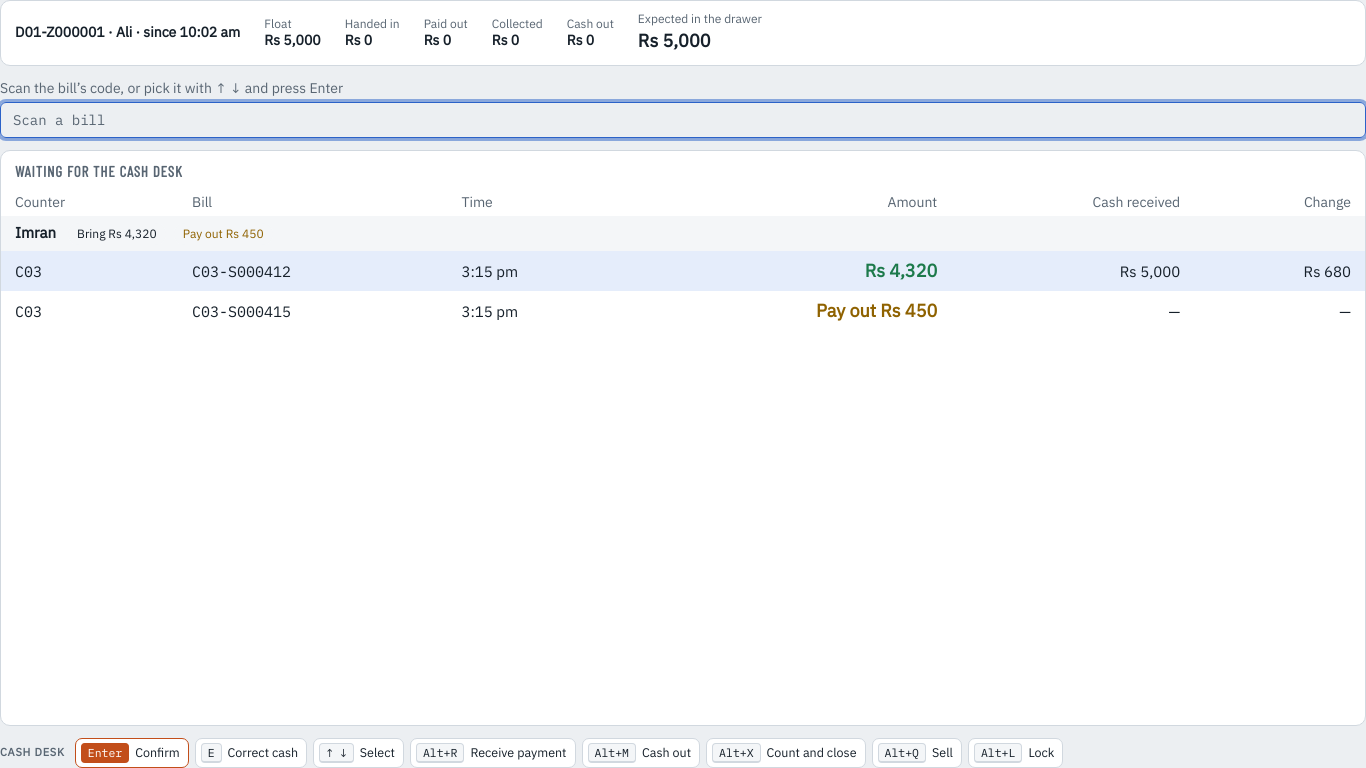
Test case: collections, cash-out and the count (W1-11) › asks before paying out more than the drawer should hold, then pays on the second Enter
This screenshot has width=1366, height=768.
Expected: the text "C03-S000412" is shown, x1=184 y1=251 x2=453 y2=291
Press m
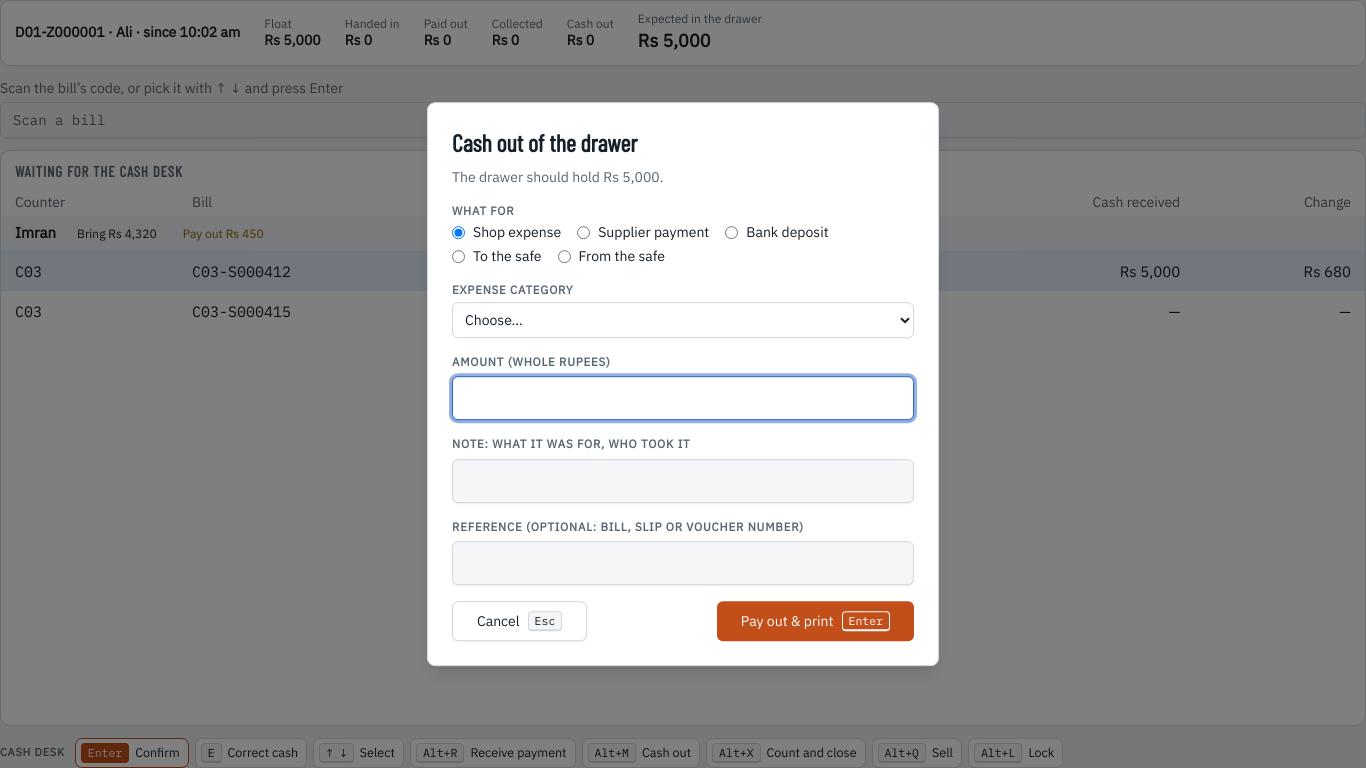
Select "General expenses" in the dropdown labelled "Expense category" at point(683, 320), box x1=452 y1=302 x2=914 y2=338
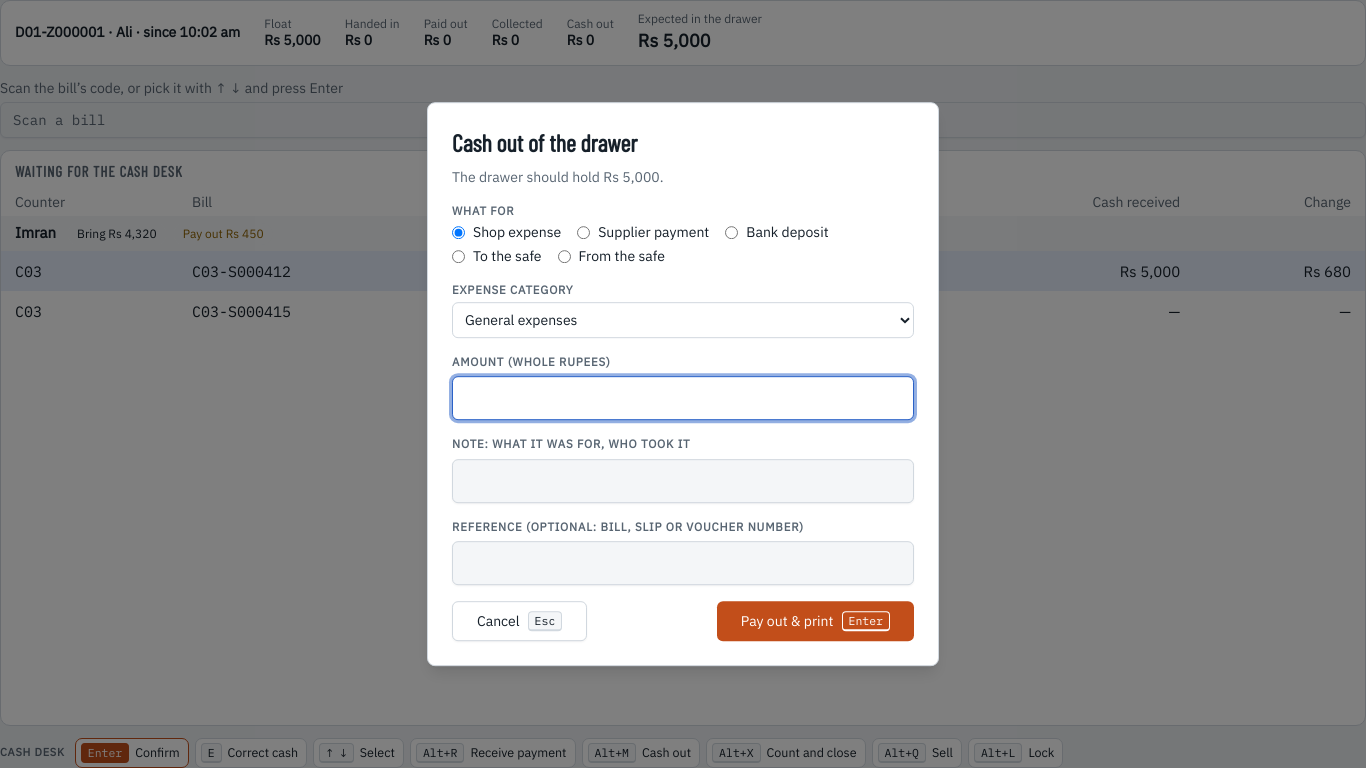
Type "9000" into the field labelled "Amount (whole rupees)" at point(683, 399), box x1=452 y1=377 x2=914 y2=421
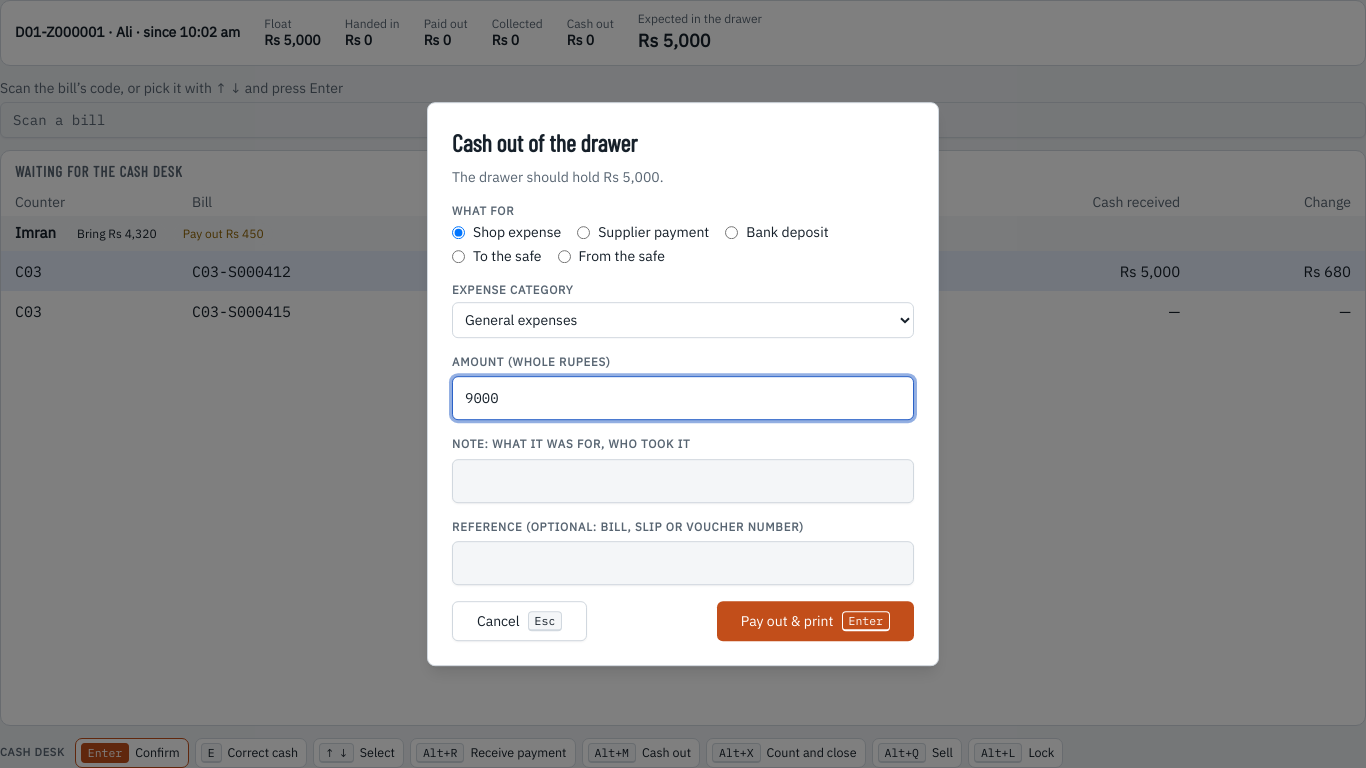
Type "diesel" into the field labelled "Note: what it was for, who took it" at point(683, 481), box x1=452 y1=459 x2=914 y2=503
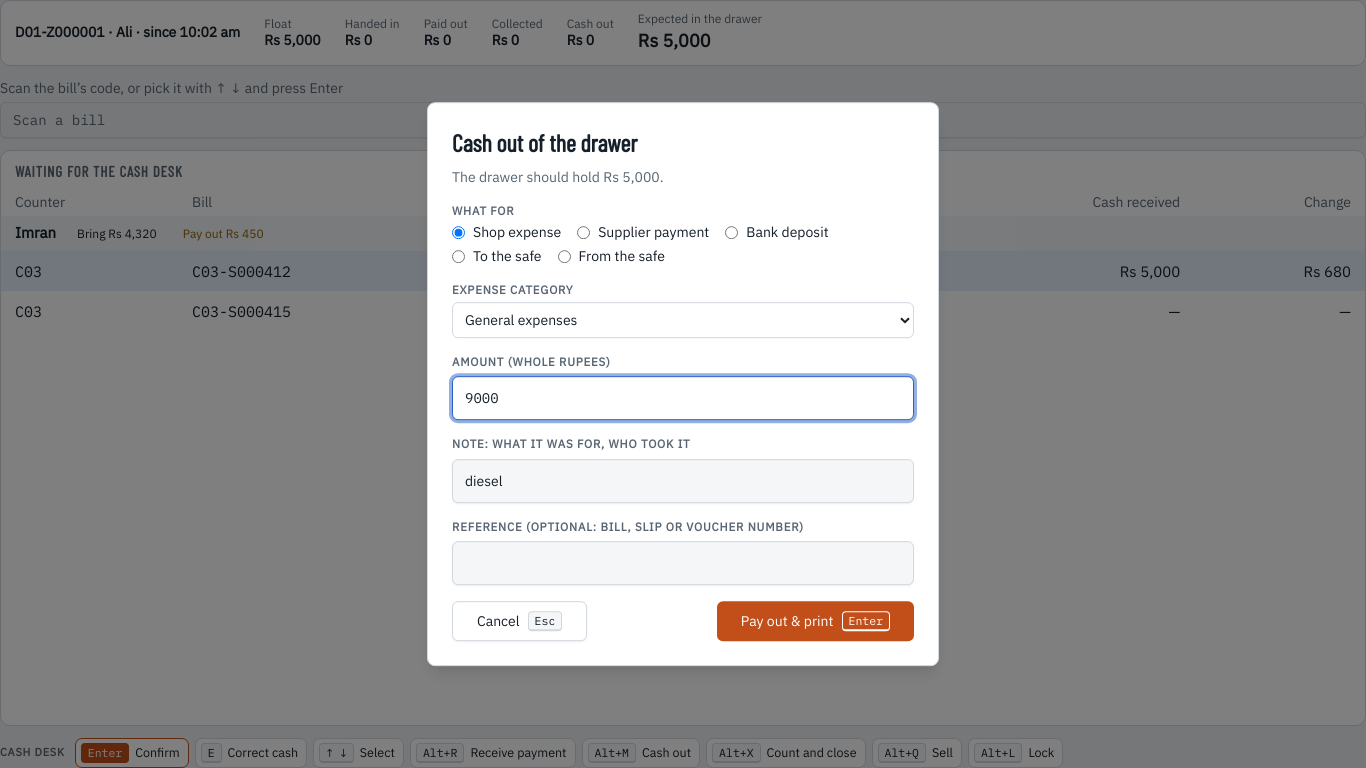
Click the button "Pay out & print Enter" at point(815, 621), box x1=717 y1=601 x2=914 y2=641
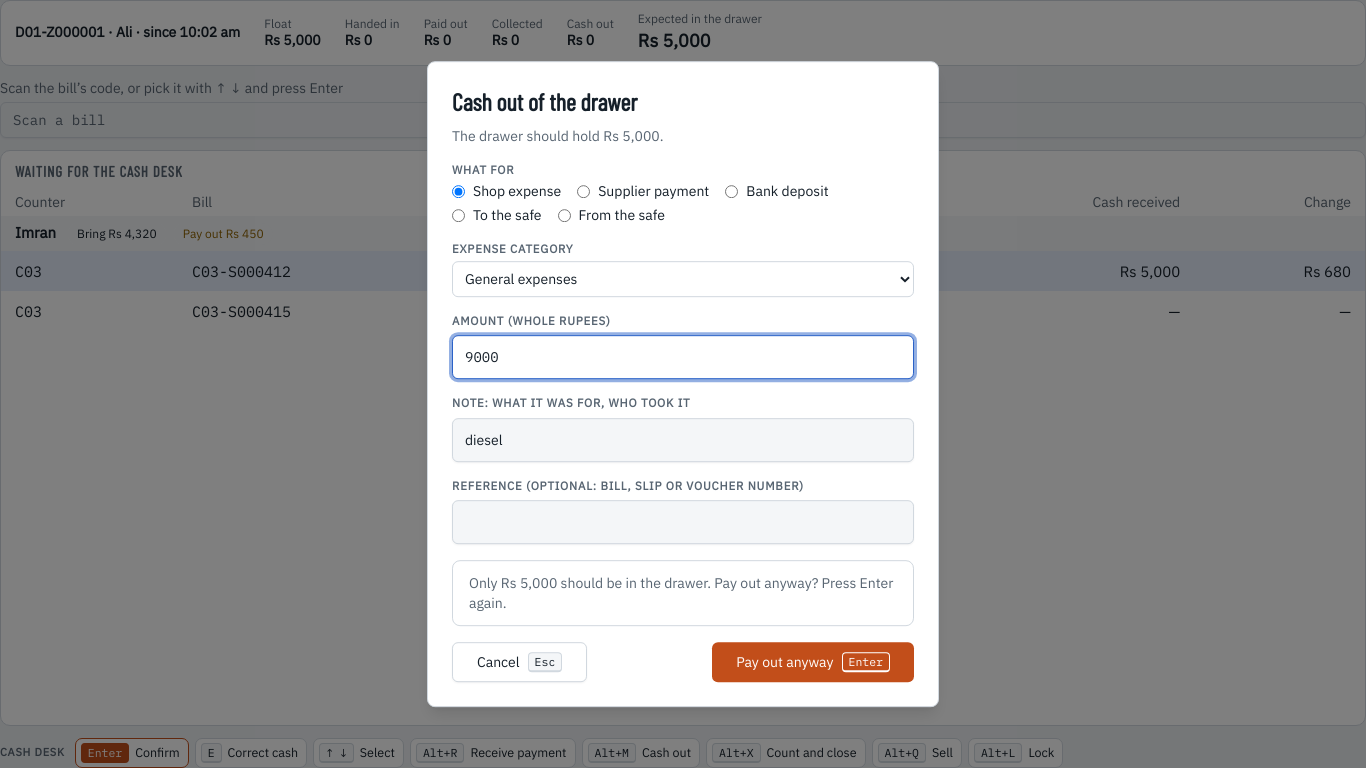
Result: the text "should be in the drawer. Pay out anyway" is shown at x1=469 y1=574 x2=893 y2=612
Click the button "Pay out anyway Enter" at point(813, 662), box x1=712 y1=642 x2=914 y2=682
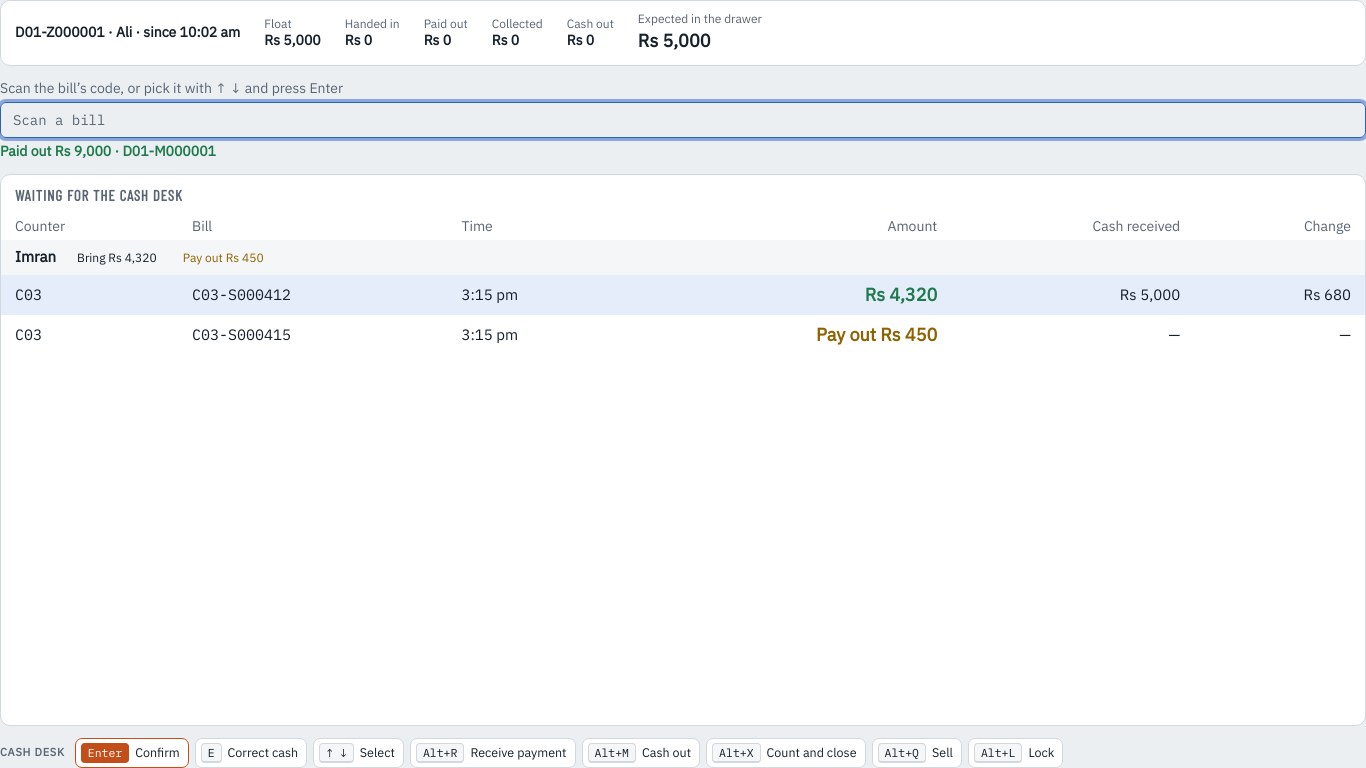
Result: the text "Paid out Rs 9,000 · D01-M000001" is shown at x1=0 y1=142 x2=216 y2=160
